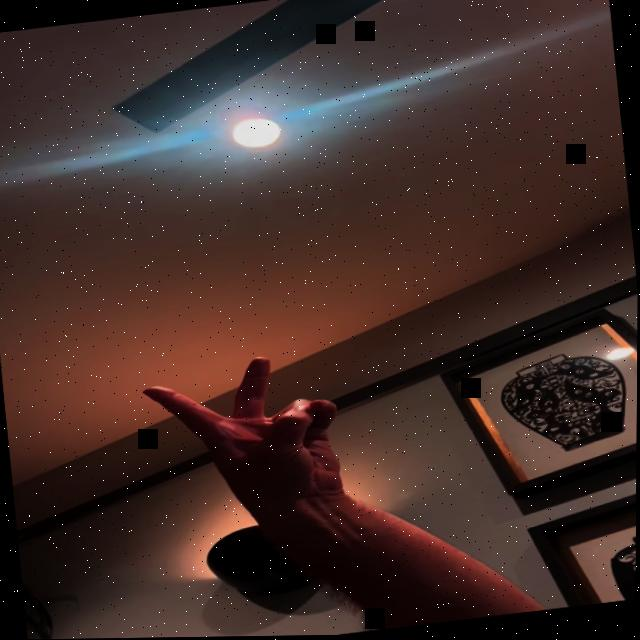Scissors: (134, 347, 356, 522)
